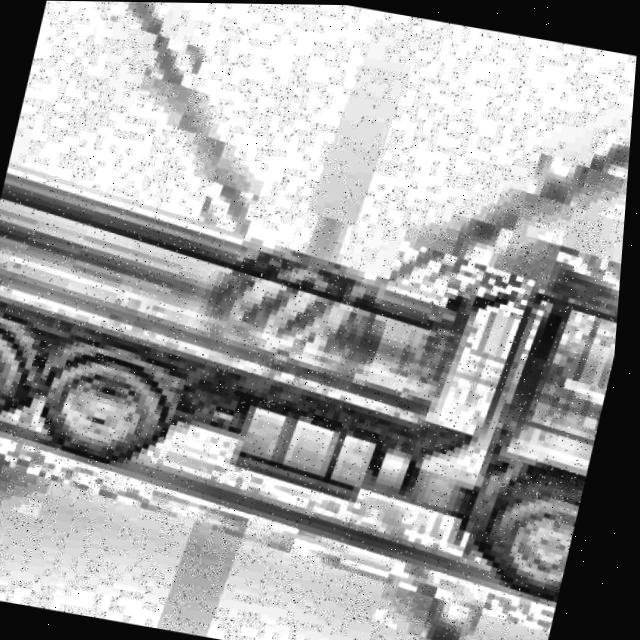dump_truck: (0, 65, 636, 629)
